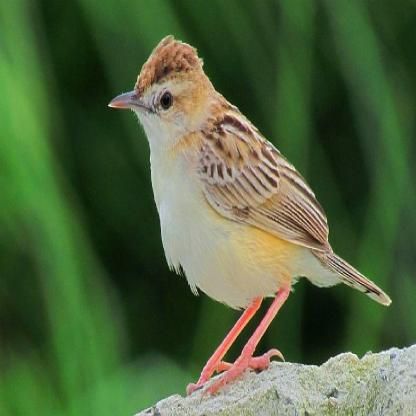Burung: (107, 34, 391, 400)
